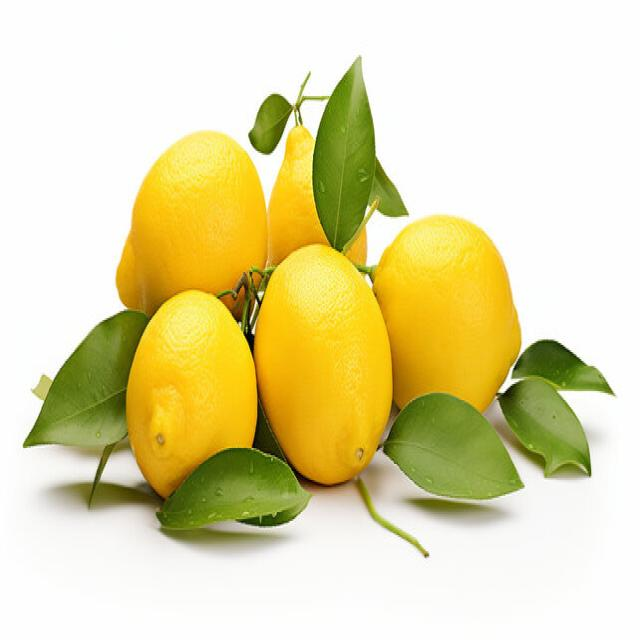Lemon: (253, 242, 393, 485), (372, 212, 521, 414), (115, 128, 267, 318), (125, 286, 257, 498), (266, 123, 367, 272)
